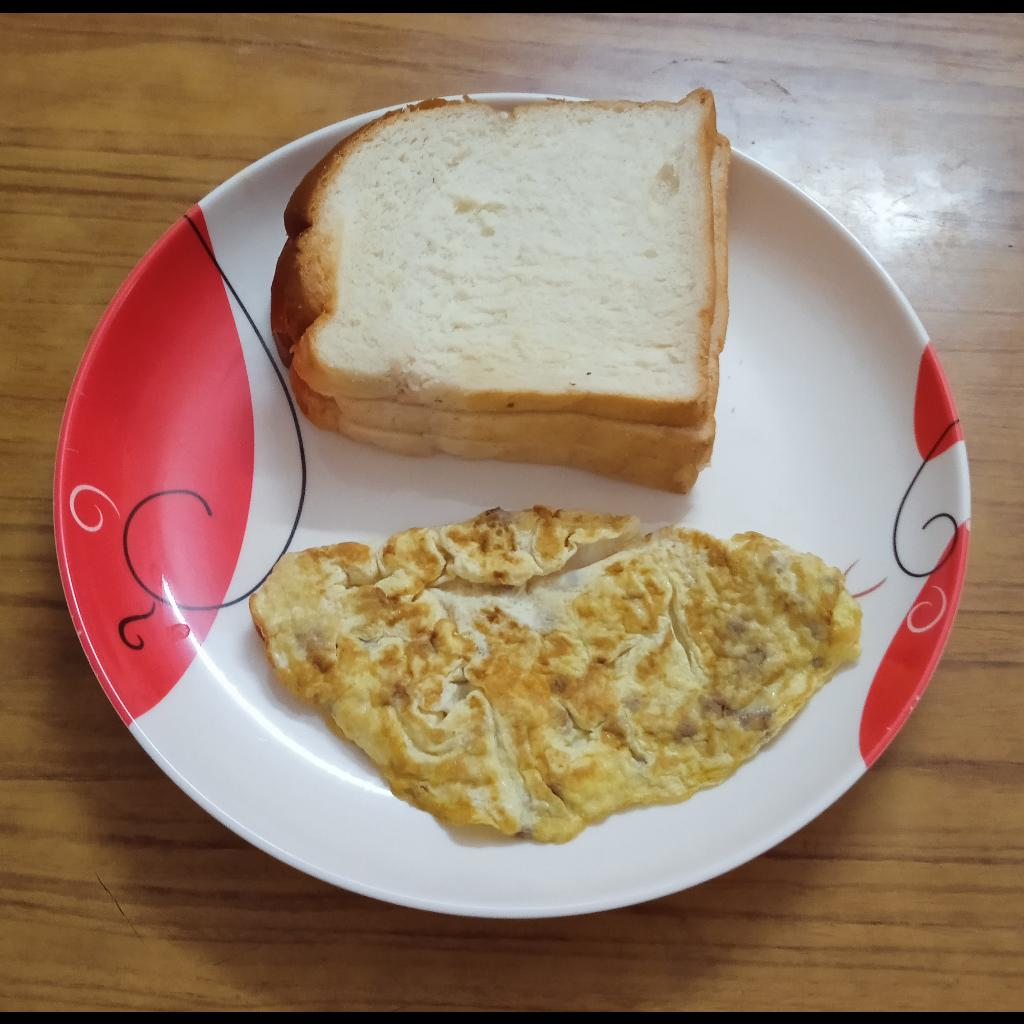bread: (268, 87, 731, 498)
egg-poached: (252, 507, 865, 841)
